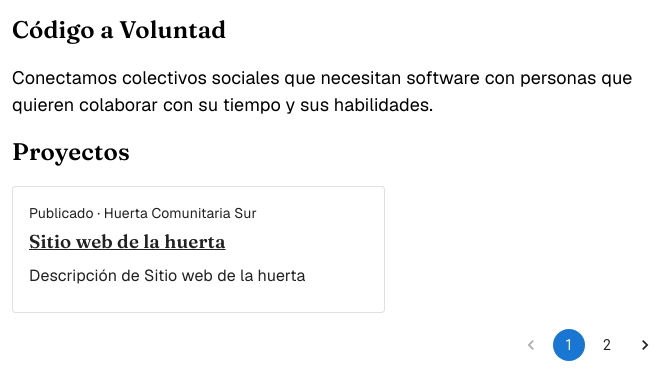
Test case: Inicio › con varias páginas permite pasar a otra
Step 1. Click the button named "Go to page 2" → (607, 345), box [591,329,623,361]
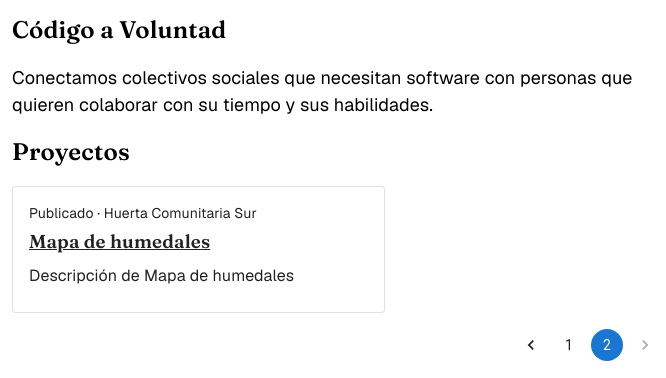
expect the link "Mapa de humedales" is shown: met, box [29,230,210,253]
expect the link "Sitio web de la huerta" is gone: met
